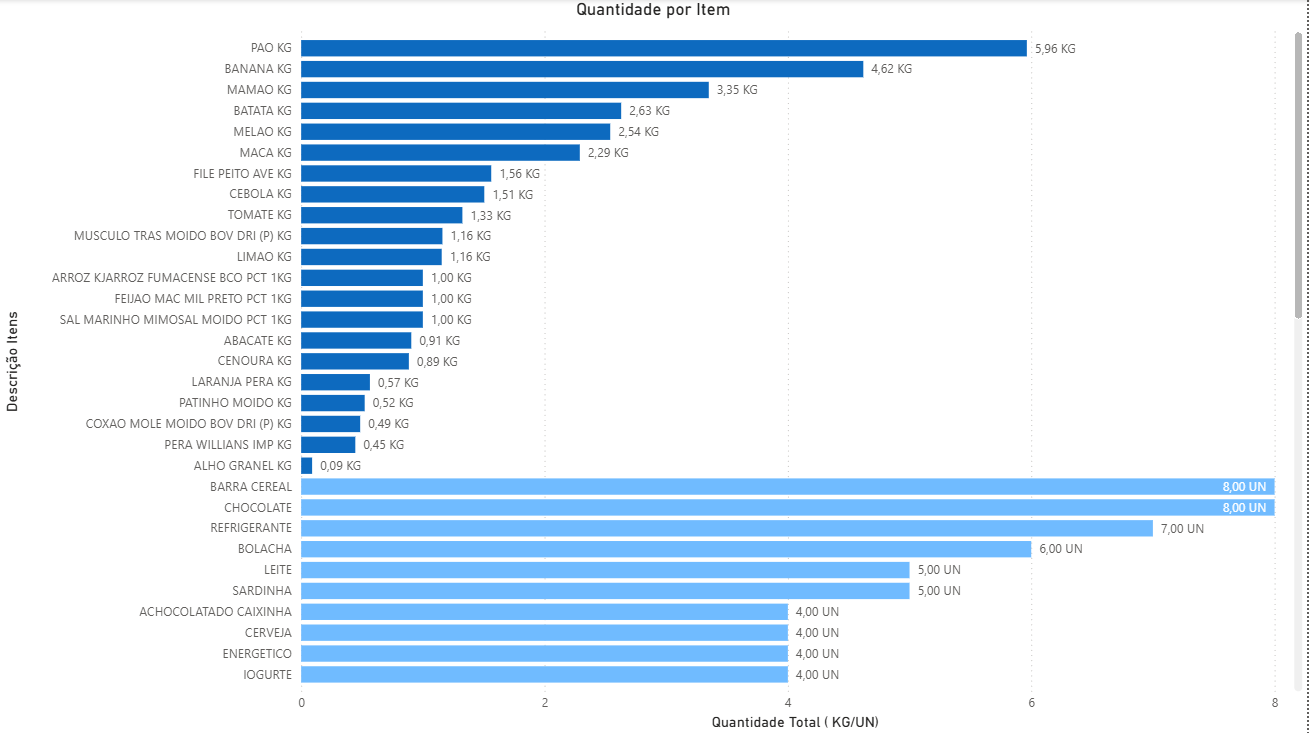

The dashboard page shown, as its layout file describes it:
{"tool":"powerbi","page":{"name":"Quantidade Total por Produto","canvas":[1280,720],"ordinal":2},"visuals":[{"type":"barChart","title":"Quantidade Total por Produto","fields":{"Category":["Mercado.Personalizar"],"Y":["Mercado.Total Qtd"]},"box":[0,0,1280.3,720.2],"z":0}]}

Visuals, with their boxes in screenshot pixels (x1, y1, x2, y2), scaled from the page's 1280x720 canvas onto the 1310x733 screenshot:
"Quantidade Total por Produto" barChart: (0, 0, 1309, 732)
